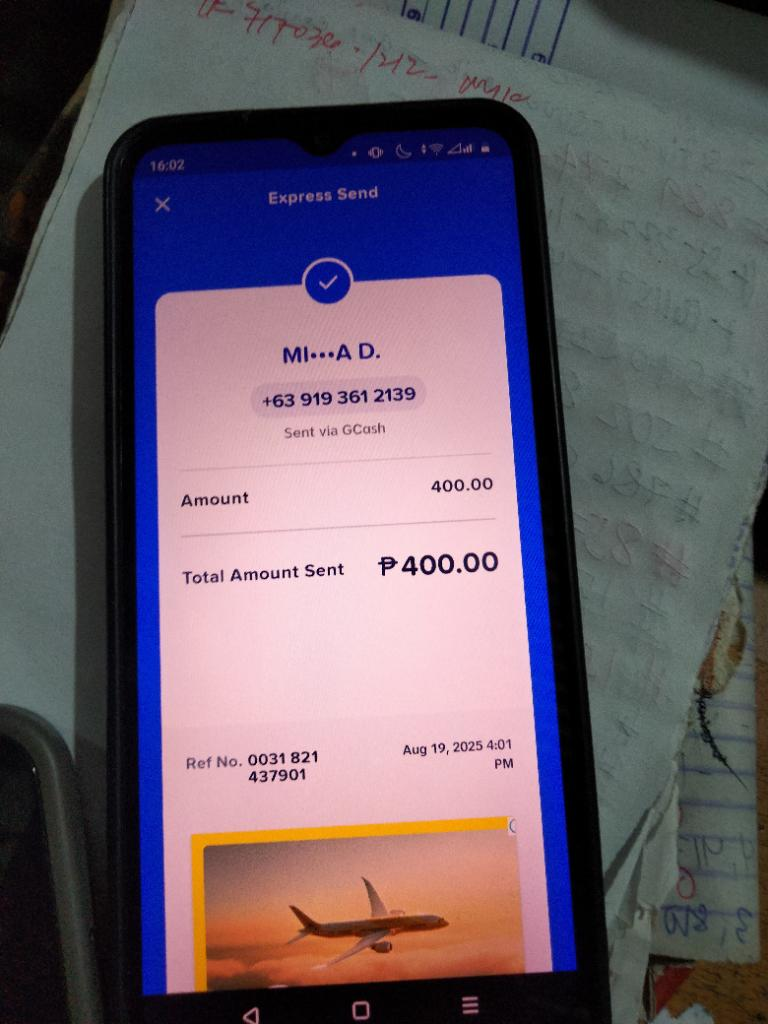Receipt: (133, 162, 579, 993)
